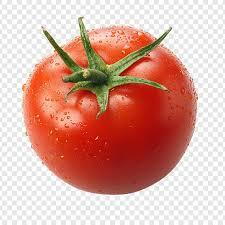non-mango: (21, 16, 198, 195)
